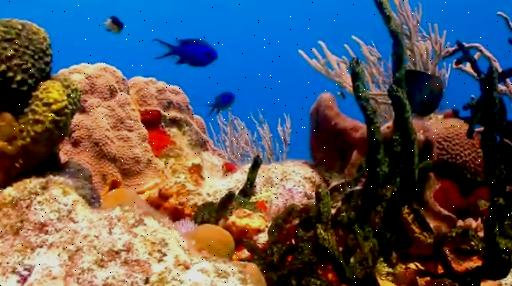Fish: (405, 70, 444, 117), (153, 39, 218, 67), (207, 92, 235, 117), (103, 16, 124, 34), (337, 90, 346, 99)
